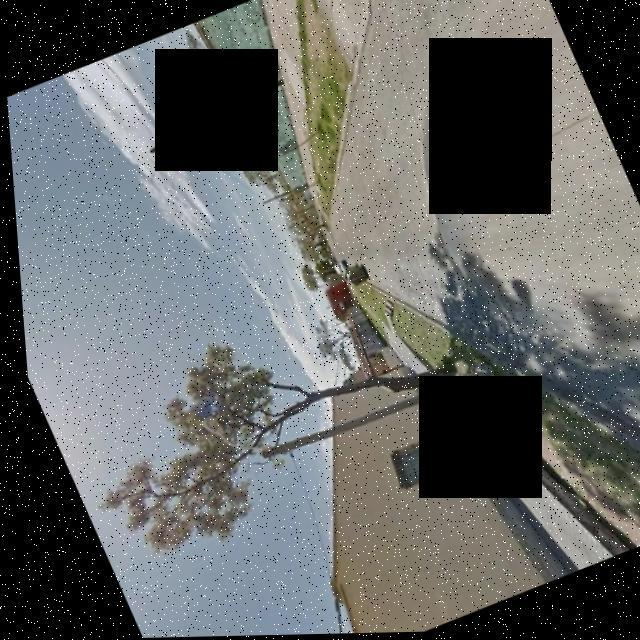bin: (330, 254, 375, 298)
